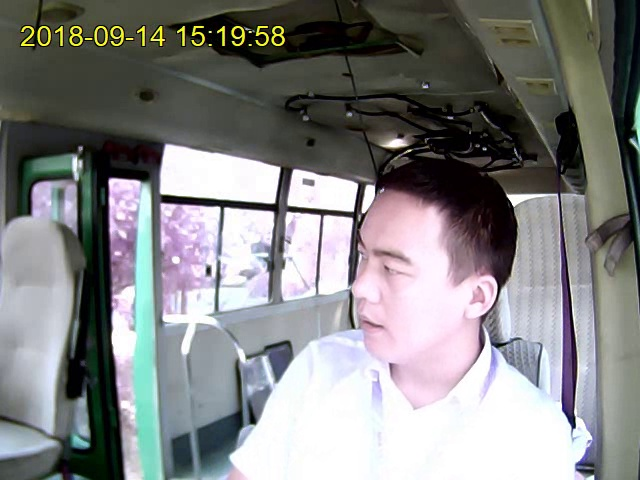closed_mouth: (356, 309, 388, 336)
